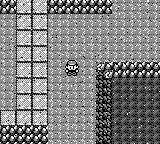captura: (0, 0, 160, 144)
main: (65, 59, 79, 77)
no-caminable: (0, 0, 48, 125), (96, 61, 159, 143), (47, 0, 112, 13), (0, 126, 48, 143), (1, 0, 16, 15)
